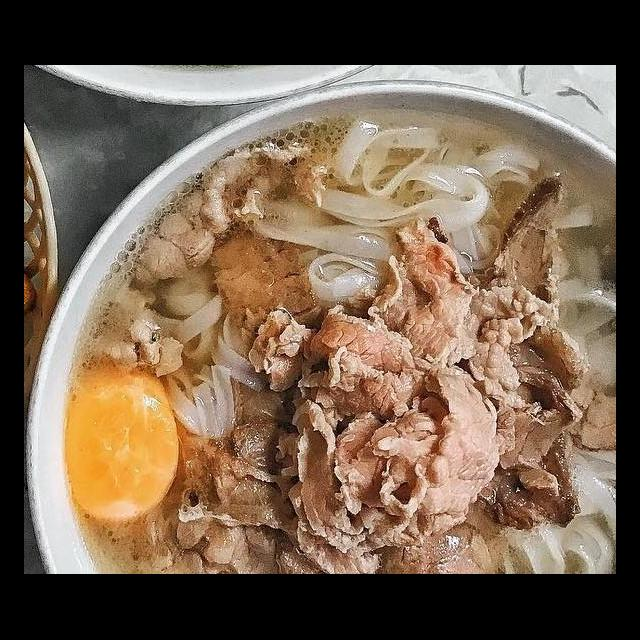banh pho: (241, 110, 544, 312), (147, 264, 271, 458), (500, 446, 616, 574), (540, 236, 616, 404)
pho bo: (43, 110, 616, 574)
thit bo: (383, 214, 563, 416), (286, 398, 442, 570), (129, 148, 330, 268), (298, 299, 437, 422), (201, 225, 332, 352), (408, 361, 501, 538), (244, 304, 324, 401)
trung: (59, 358, 184, 528)
